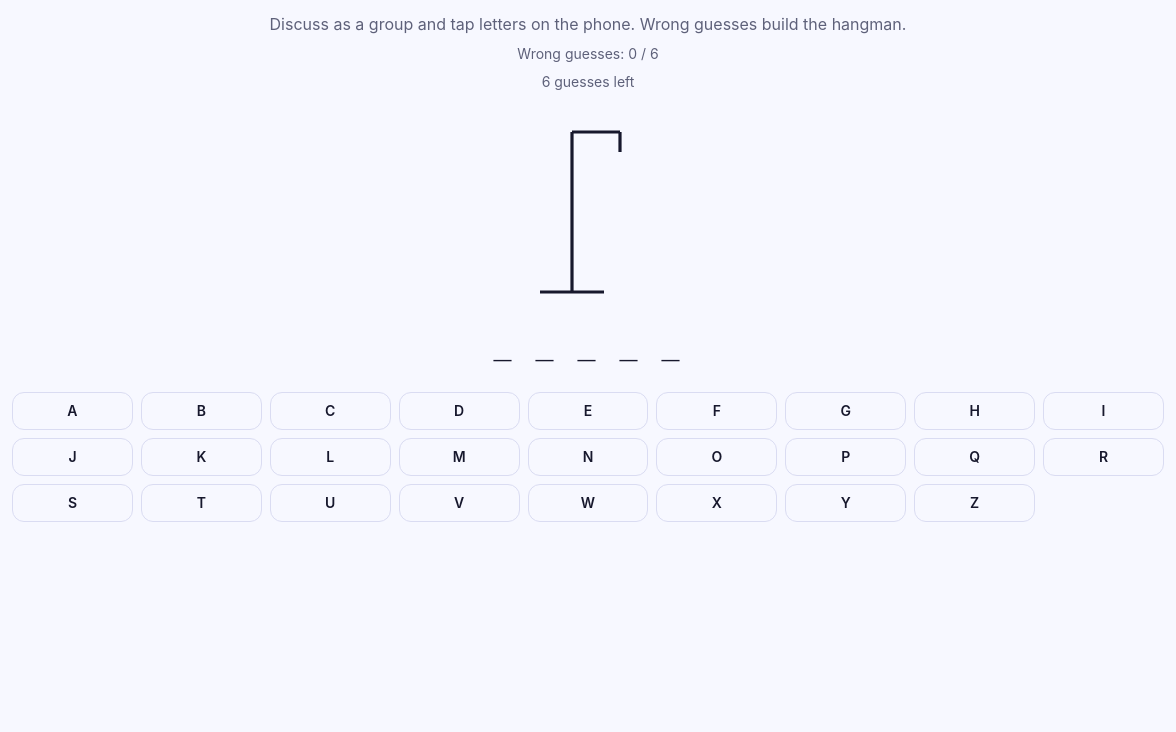
Scenario: HangmanPlayView › reveals letters on correct guesses
Click the button "a". click: (72, 411)
box: [12,392,133,430]
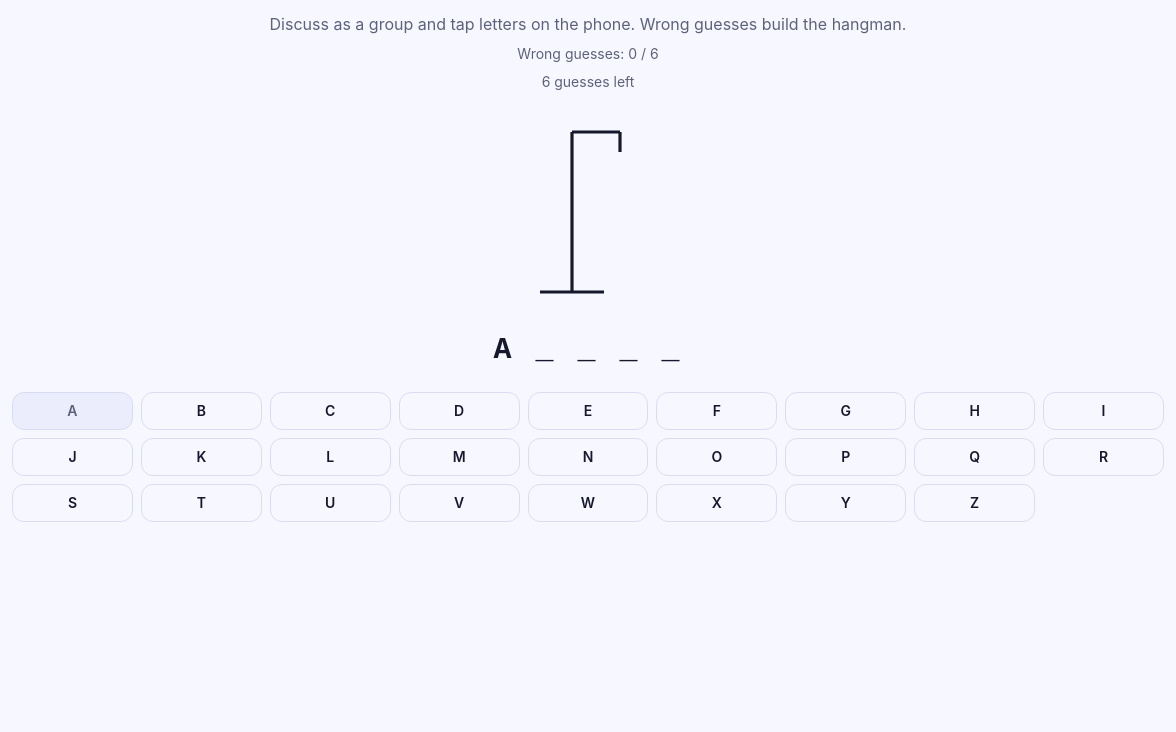
Check: the text "a _ _ _ _" is shown, box [494,333,682,367]
